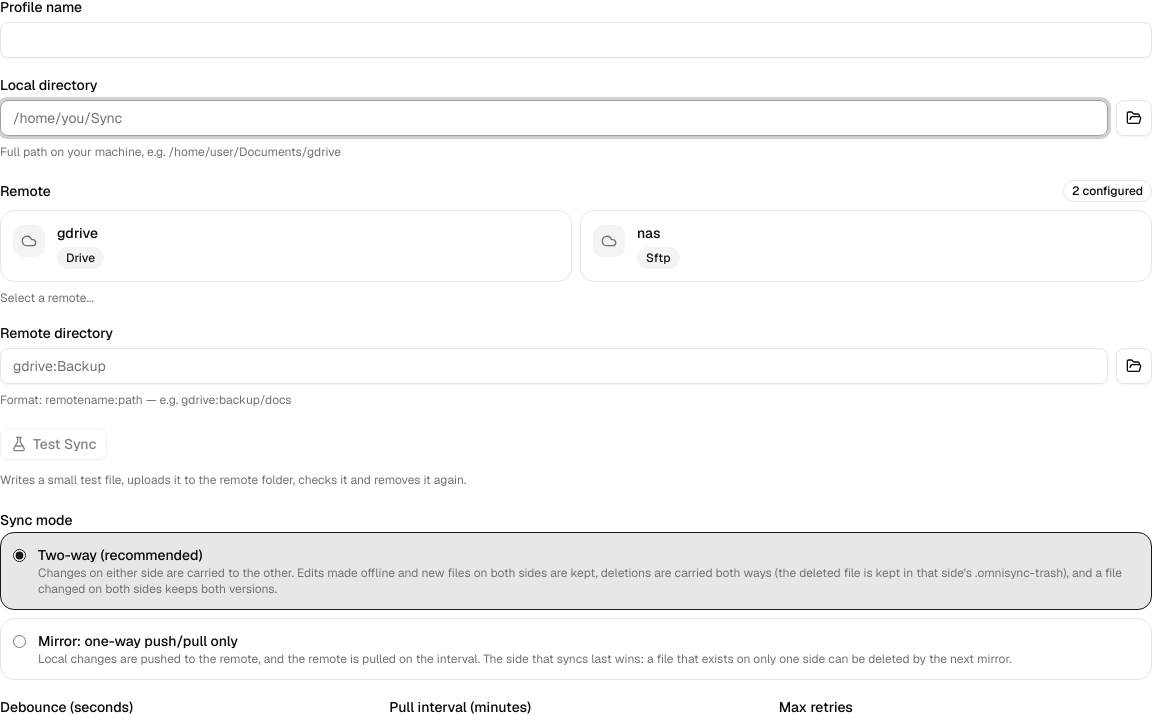
Test case: ProfileForm directory browsing › cancelling the browser leaves the directory unchanged
The image size is (1152, 720).
Type keys "/data"
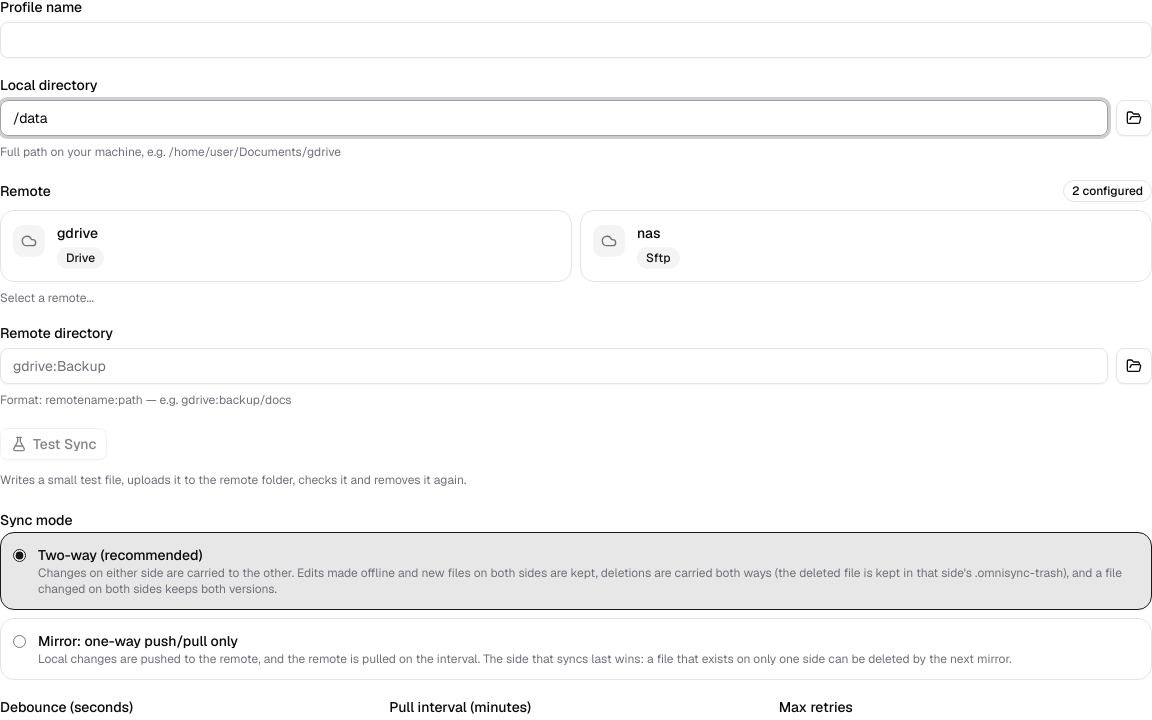
Click the button named "Browse local directory" at (1134, 118), box x1=1116 y1=100 x2=1151 y2=136
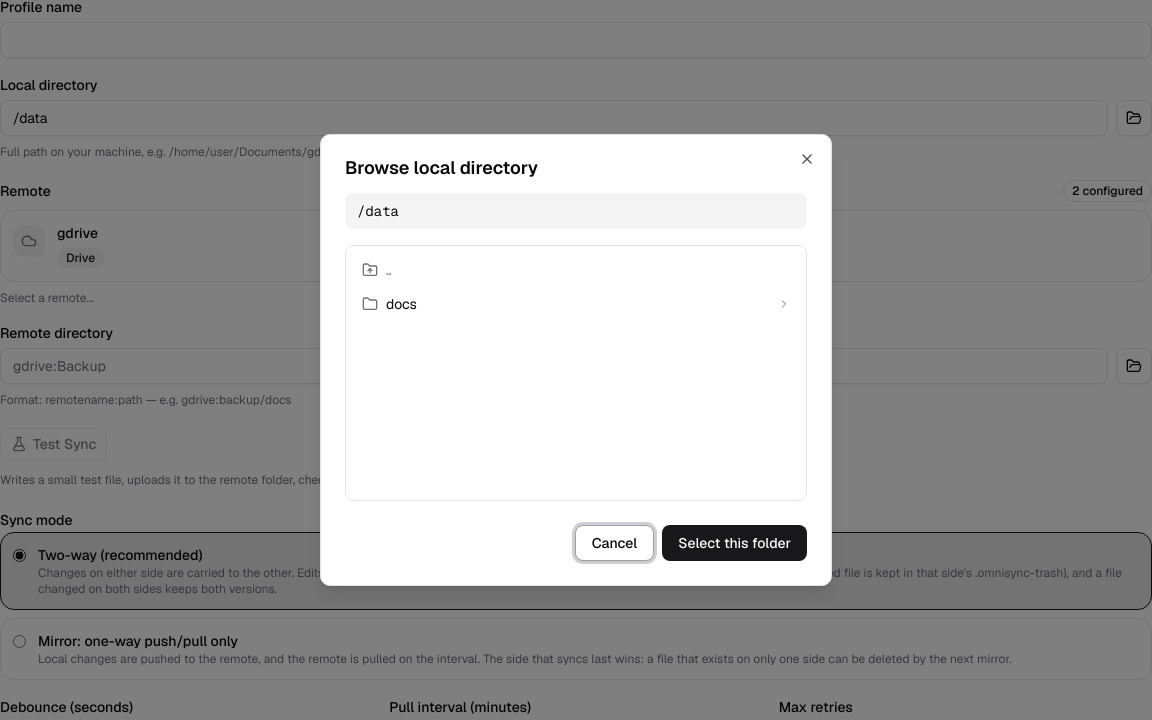
Expected: the text "/data" is shown, x1=345 y1=193 x2=807 y2=229
Click the button "Cancel" at (614, 543), box x1=575 y1=525 x2=654 y2=561
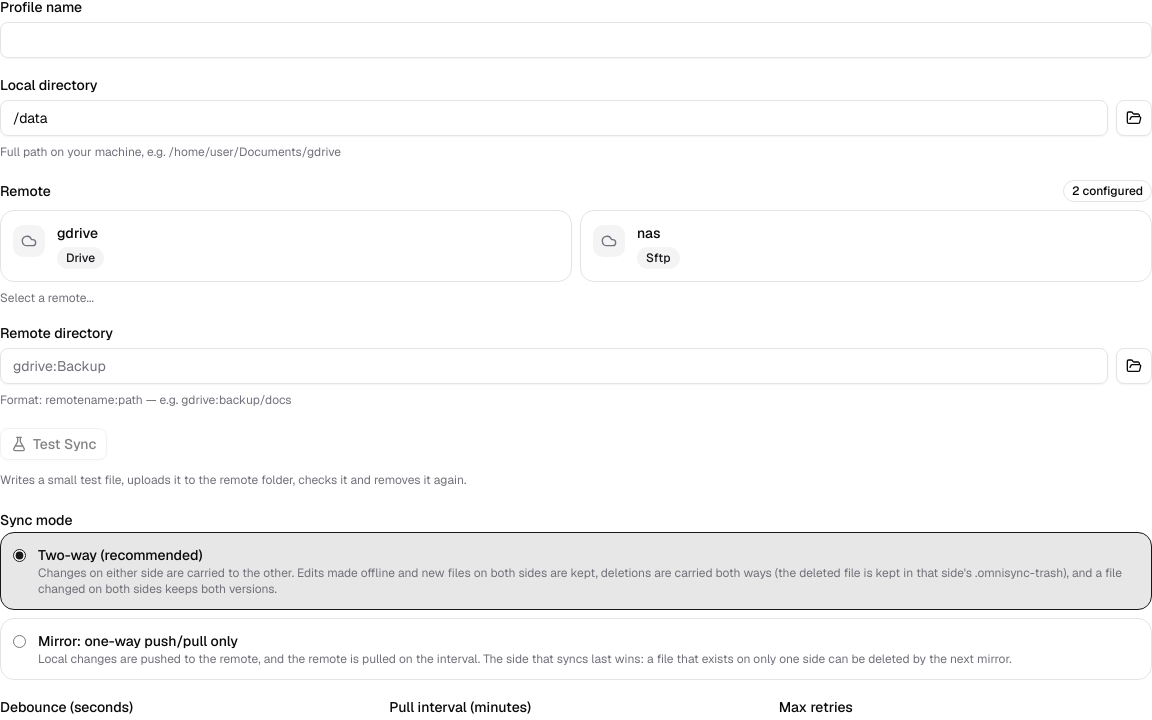
Expected: the field labelled "Local directory" holds "/data", x1=0 y1=100 x2=1108 y2=136
Expected: the dialog is gone
